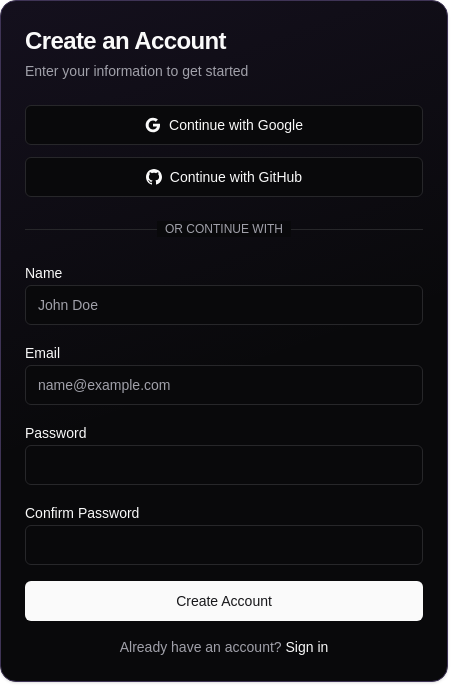
Scenario: SignupForm › disables button while loading
Type "Test User" into the field labelled "Name".
click(224, 305); type("Test User")  # box [25, 285, 423, 325]
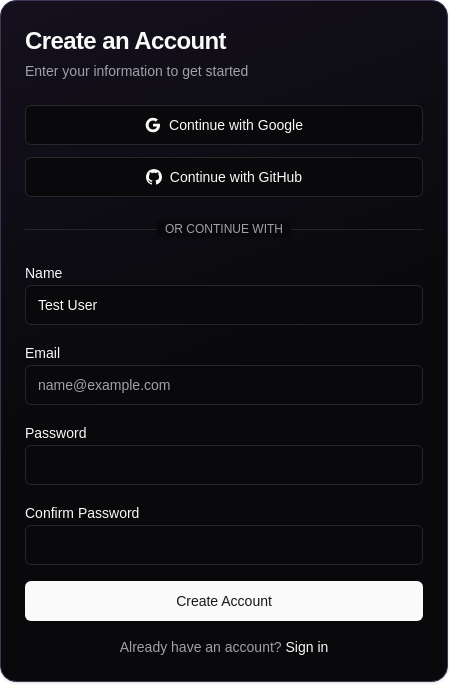
Type "test@test.com" into the field labelled "Email".
click(224, 385); type("test@test.com")  # box [25, 365, 423, 405]
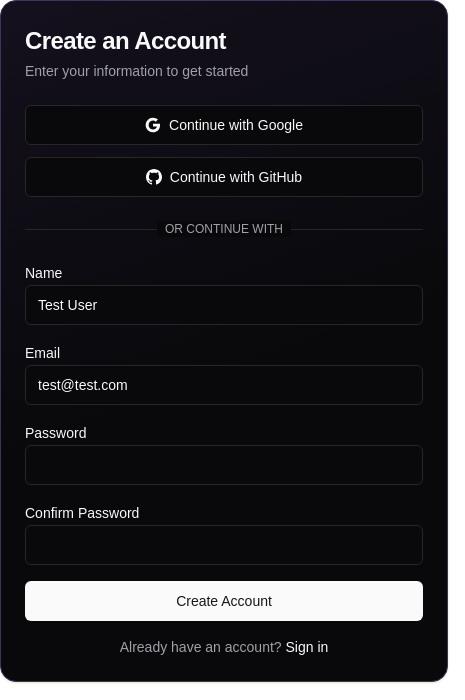
Type "password123" into the password field labelled "Password".
click(224, 465); type("password123")  # box [25, 445, 423, 485]
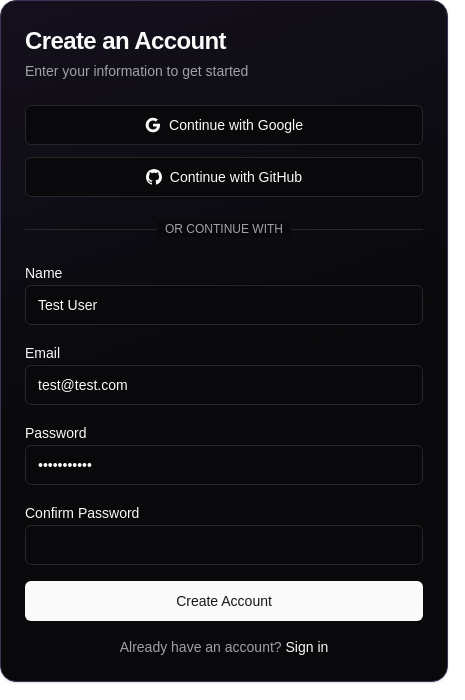
Type "password123" into the password field labelled "Confirm Password".
click(224, 545); type("password123")  # box [25, 525, 423, 565]
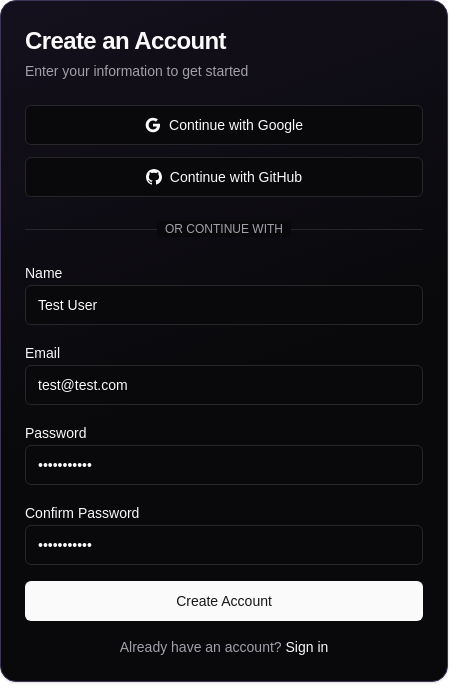
Click the button "Create Account".
click(224, 601)  # box [25, 581, 423, 621]
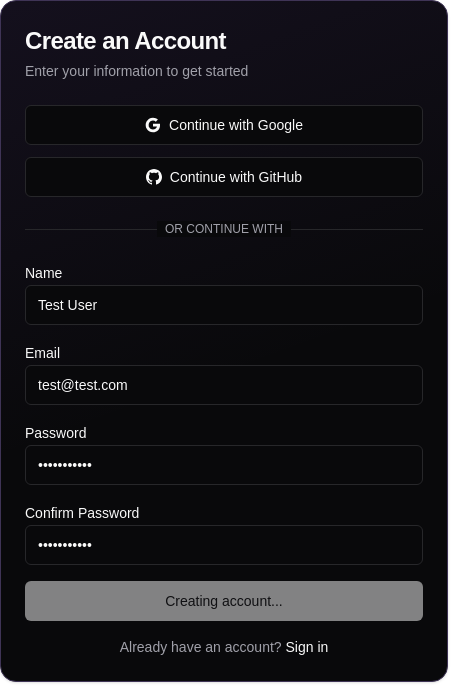
Expected: the button "Creating account..." is disabled, [25, 581, 423, 621]
